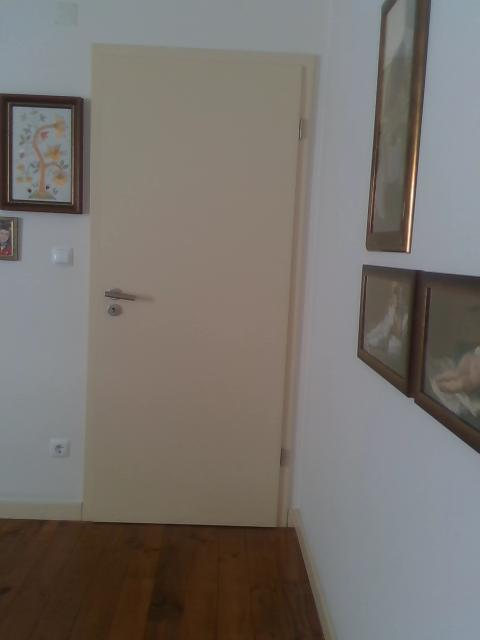door: (96, 56, 307, 528)
